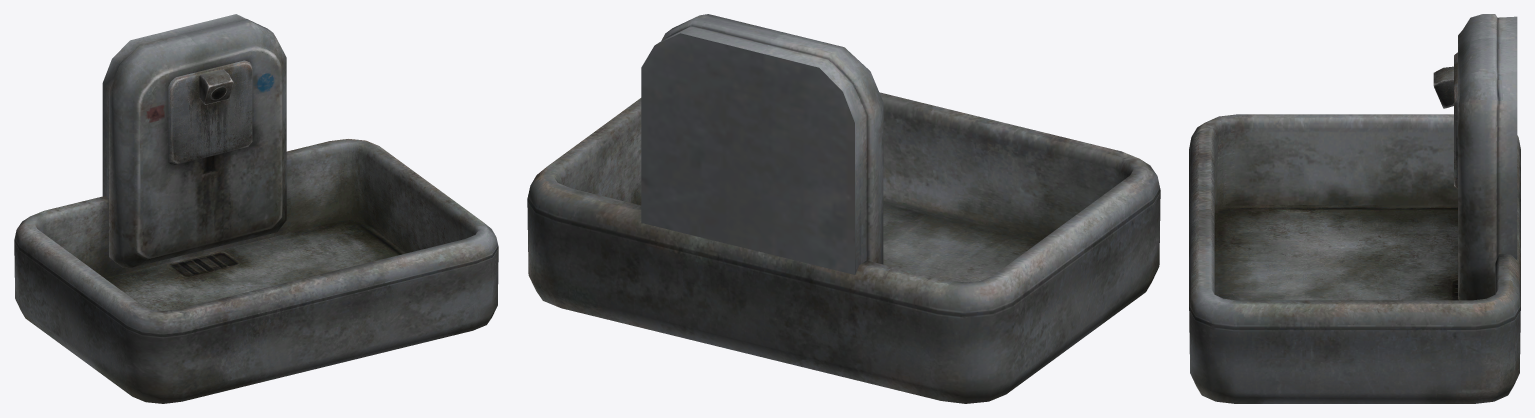
Rendered from sink.dae.
3 renders of one model, left to right at view 1: azimuth 30°, elevation 25°; view 2: azimuth 150°, elevation 25°; view 3: azimuth 270°, elevation 25°, orthographic. The views are drawn at different scales.
Visible parts, largest first — view 1: sink; view 2: sink; view 3: sink.
Boxes of the visible parts, x1=… form: sink: x1=14, y1=14, x2=498, y2=403; sink: x1=527, y1=14, x2=1160, y2=403; sink: x1=1189, y1=14, x2=1520, y2=403.
Bounding box in the file's own units: 0.958 × 0.6033 × 0.6725.
1 material, 1 textured.
